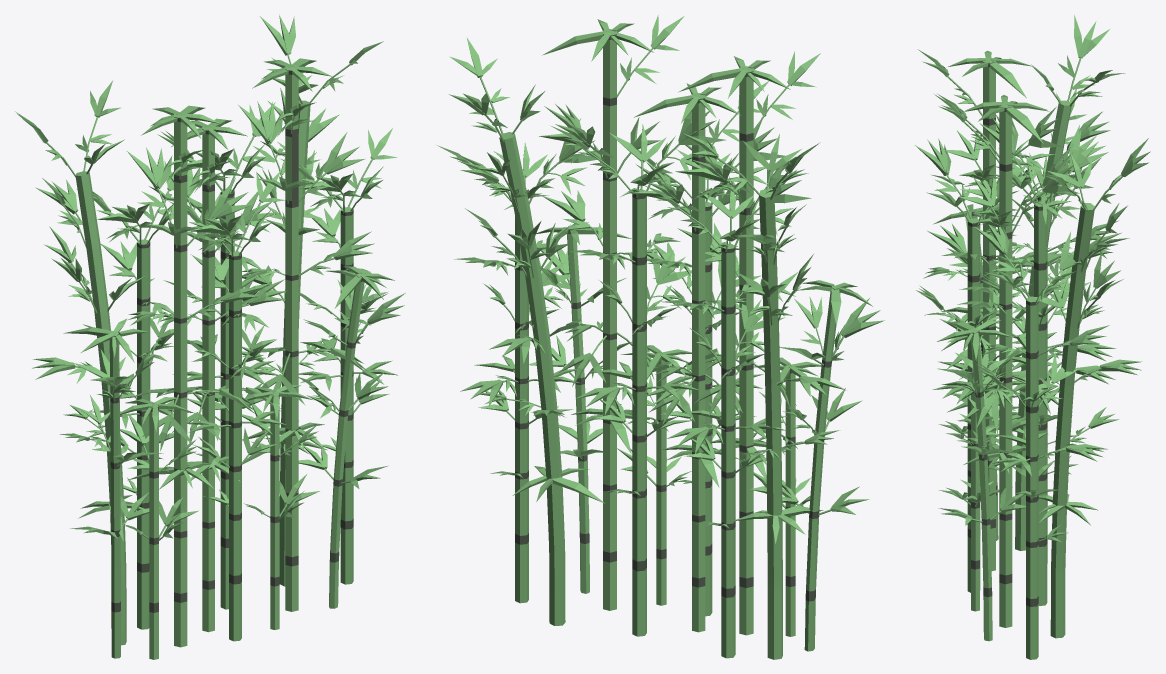
File: bamboo9.FBX
The picture shows the model from 3 angles, left to right: view 1: azimuth 30°, elevation 25°; view 2: azimuth 150°, elevation 25°; view 3: azimuth 270°, elevation 25°; orthographic projection. The views are drawn at different scales.
Parts seen in each view (by area): view 1: bamboo9; view 2: bamboo9; view 3: bamboo9.
Part boxes in pixels (x1,y1,x2,y2): bamboo9: (15, 14, 405, 659); bamboo9: (437, 15, 884, 659); bamboo9: (915, 15, 1150, 659).
Bounding box in the file's own units: 257 × 357 × 147.
